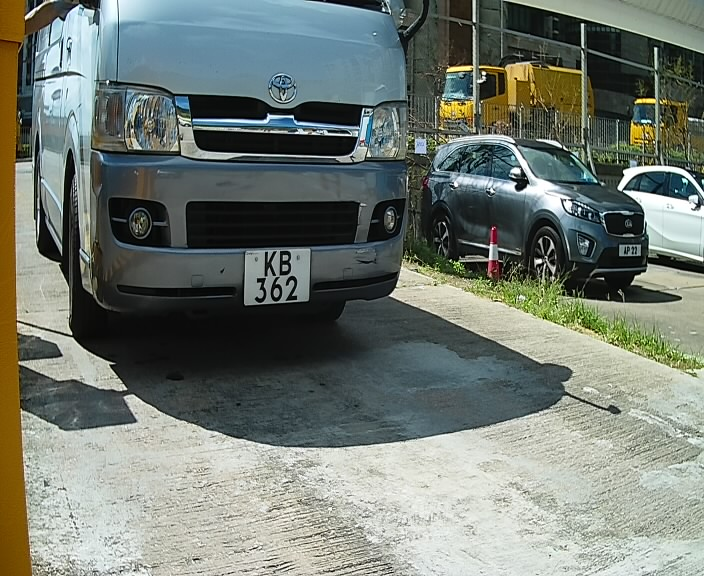Car: (23, 2, 417, 375)
License Plate: (241, 244, 320, 316)
